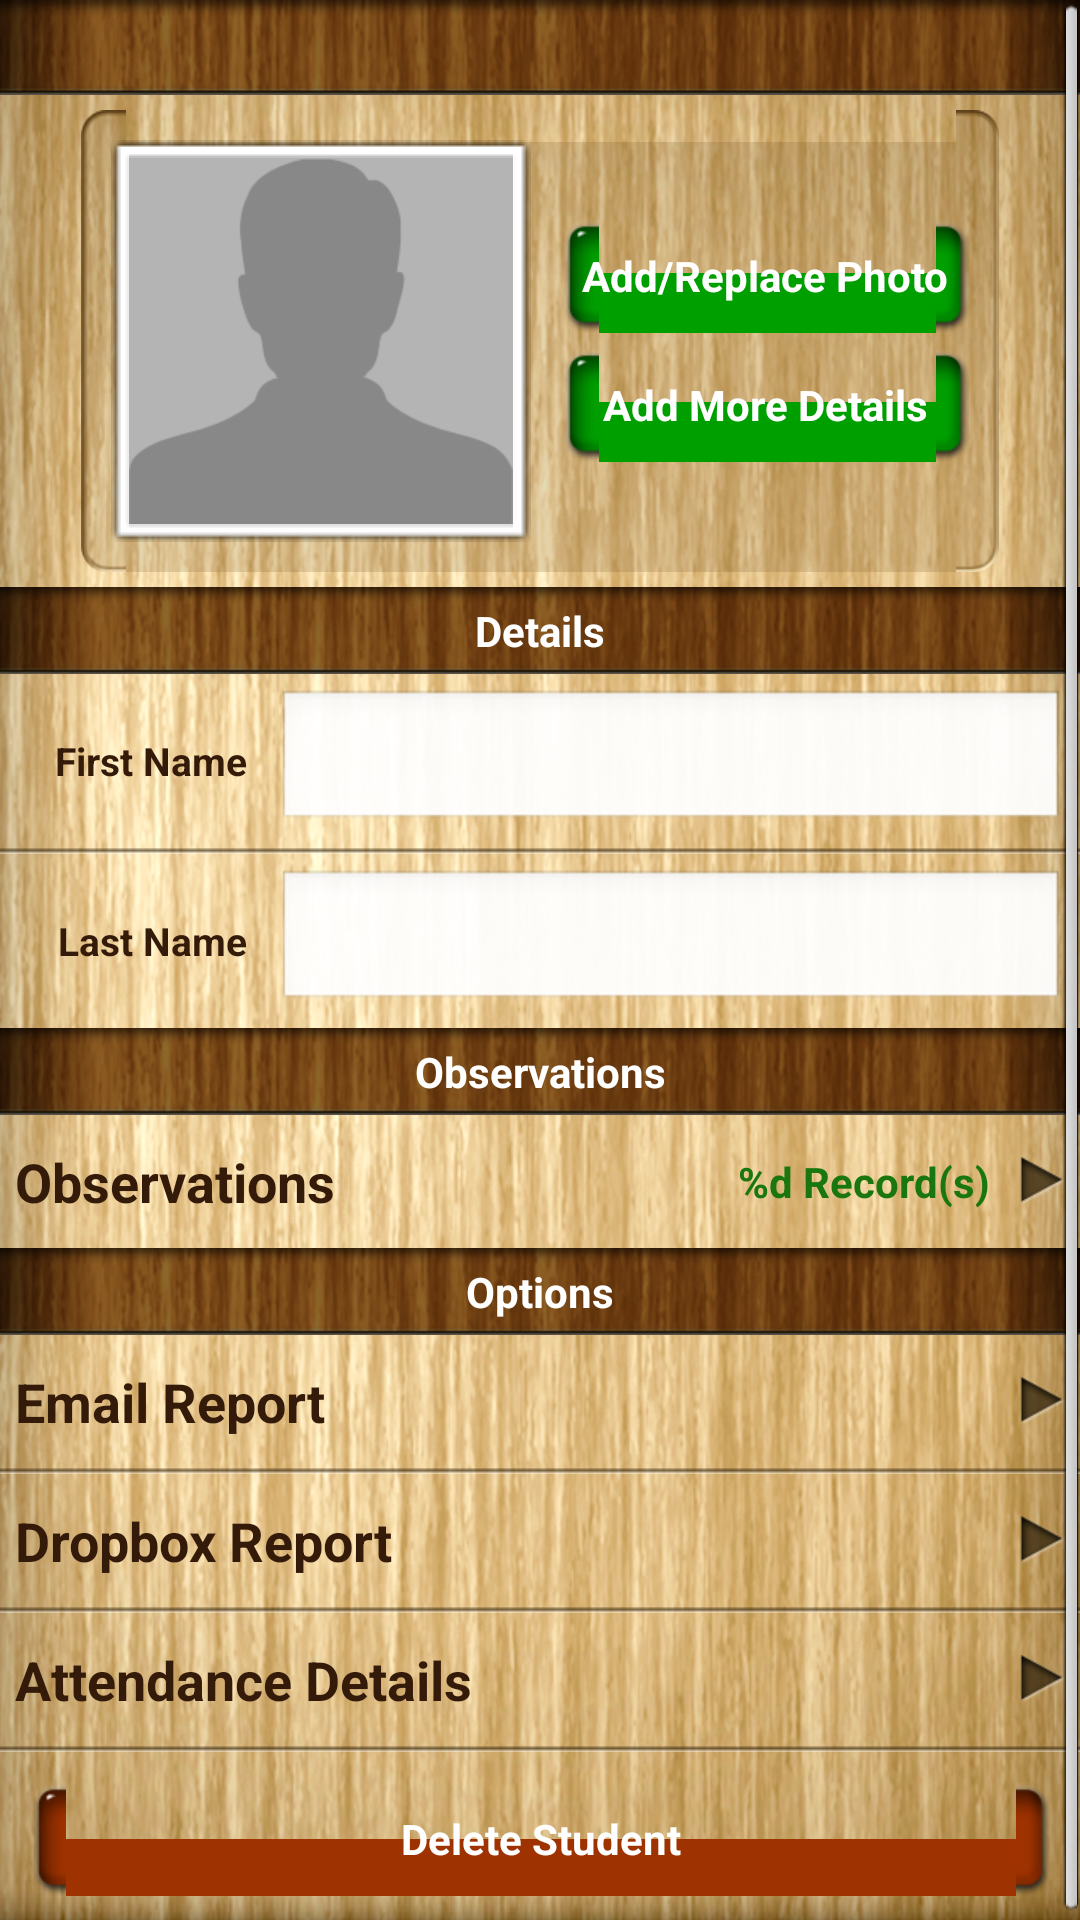

Screen size 1080 × 1920. Icon name, then its center in pixels as (x=x, y=y):
cell accessory: (x=1042, y=1181)
